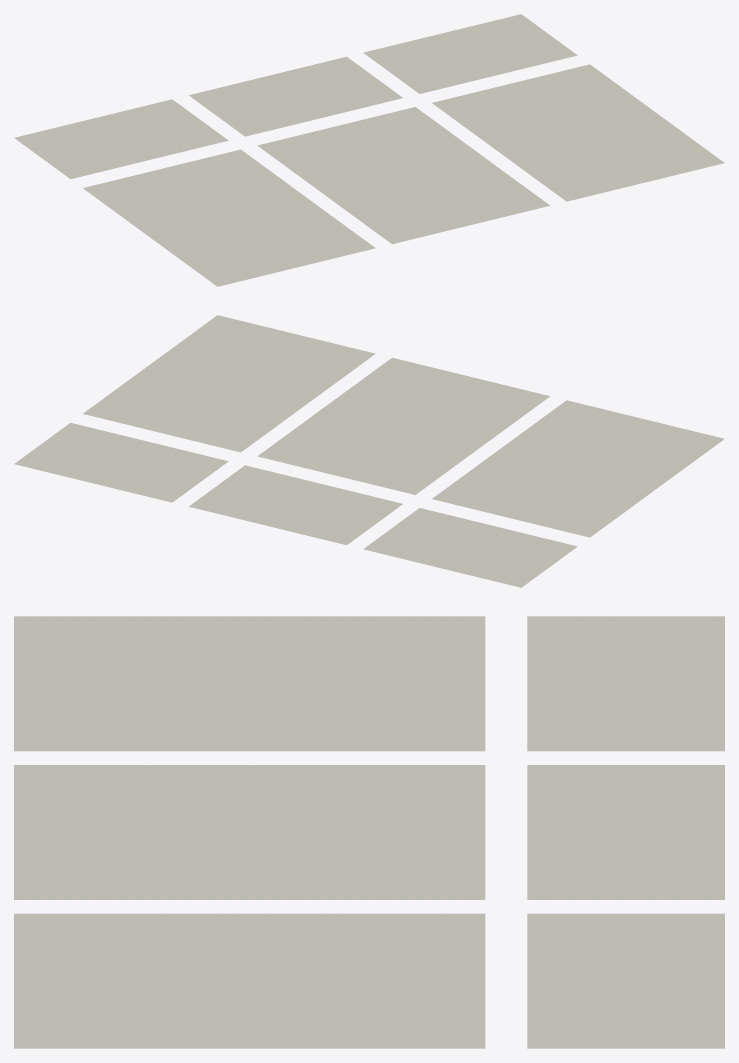
File: window03_floorpatch.fbx
3 renders of one model, top to bottom at view 1: azimuth 30°, elevation 25°; view 2: azimuth 150°, elevation 25°; view 3: azimuth 270°, elevation 25°, orthographic. The views are drawn at different scales.
Parts seen in each view (by area): view 1: mesh_0; view 2: mesh_0; view 3: mesh_0.
Boxes of the visible parts, left/top/right/bottom form: mesh_0: left=14, top=14, right=724, bottom=286; mesh_0: left=14, top=315, right=724, bottom=587; mesh_0: left=14, top=616, right=724, bottom=1048.
Size of the model in its own units: 334 by 0 by 232.
1 material, 1 textured.
